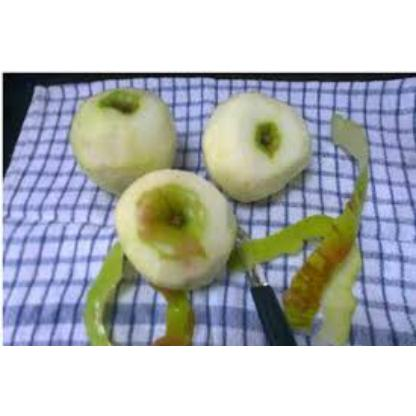damaged_apple: (108, 173, 235, 289), (196, 98, 326, 198), (71, 94, 173, 186)
